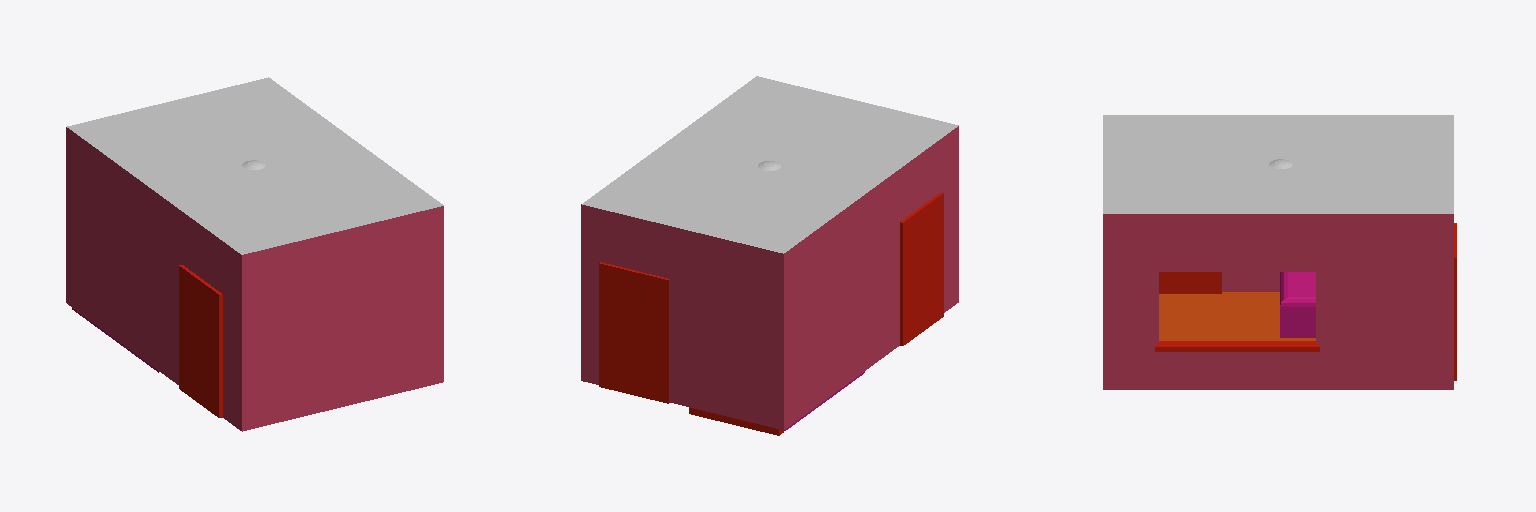
File: girl_room.obj
3 renders of one model, left to right at view 1: azimuth 30°, elevation 25°; view 2: azimuth 150°, elevation 25°; view 3: azimuth 270°, elevation 25°, orthographic.
Visible parts, largest first — view 1: Walls, Door_Entrance; view 2: Walls, Door_Exit, Door_Entrance, Bed; view 3: Walls, Bed, Door_Entrance.
Boxes of the visible parts, <box> form: Walls: <box>66,77,443,431</box>; Door_Entrance: <box>179,265,222,417</box>; Walls: <box>581,76,958,429</box>; Door_Exit: <box>599,262,669,403</box>; Door_Entrance: <box>900,193,943,345</box>; Bed: <box>689,371,864,435</box>; Walls: <box>1103,115,1453,389</box>; Bed: <box>1280,272,1315,337</box>; Door_Entrance: <box>1159,272,1221,293</box>.
Size of the model in its own units: 3.15 by 2.63 by 4.54.